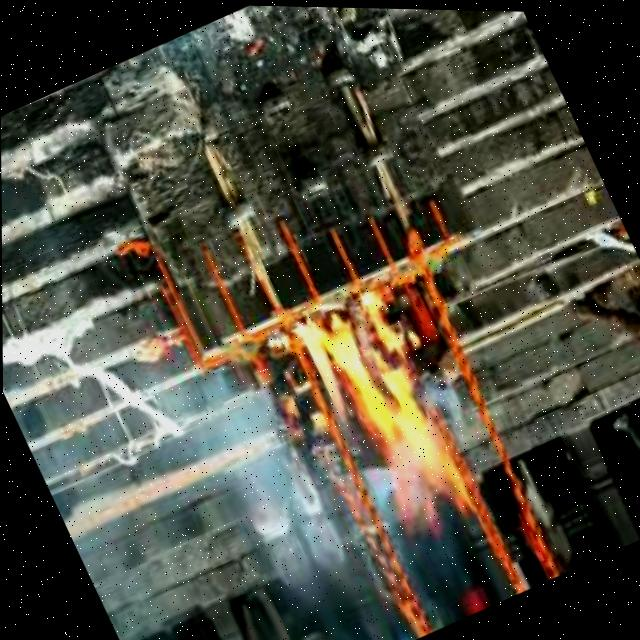Fire: (288, 287, 482, 541)
